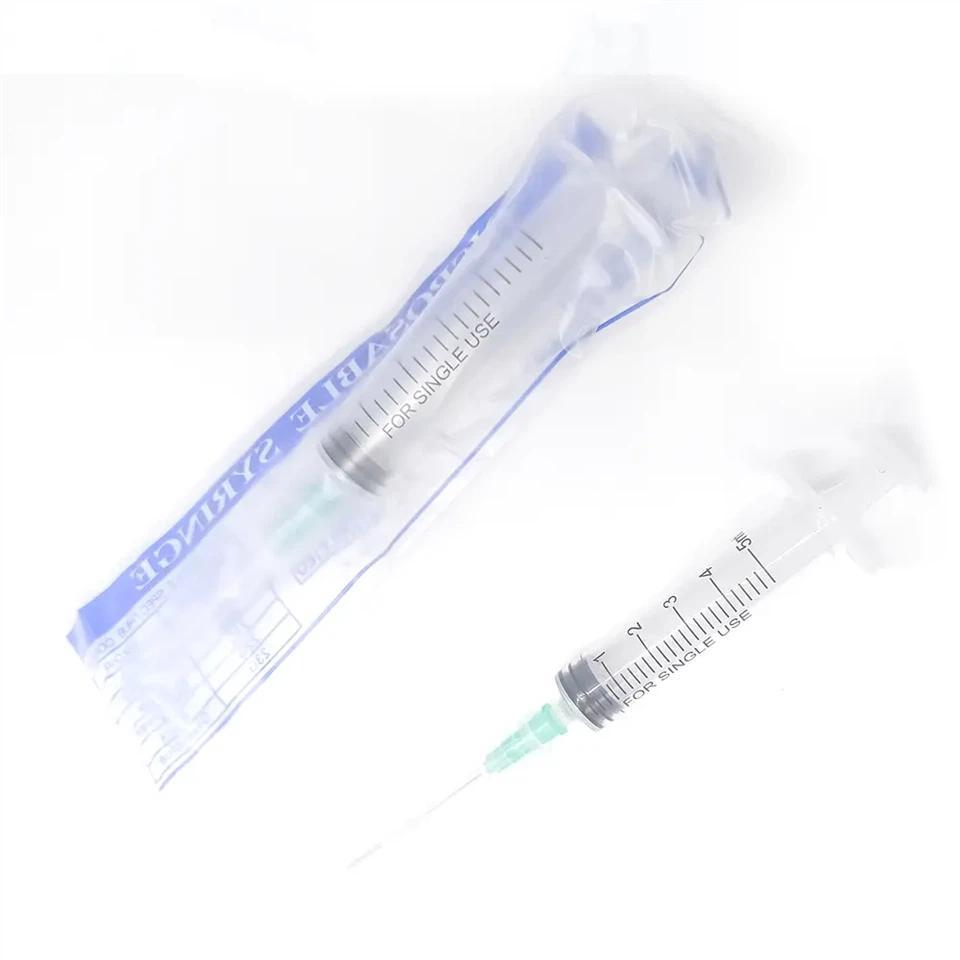Syringe: (353, 433, 922, 863), (484, 437, 918, 772)
